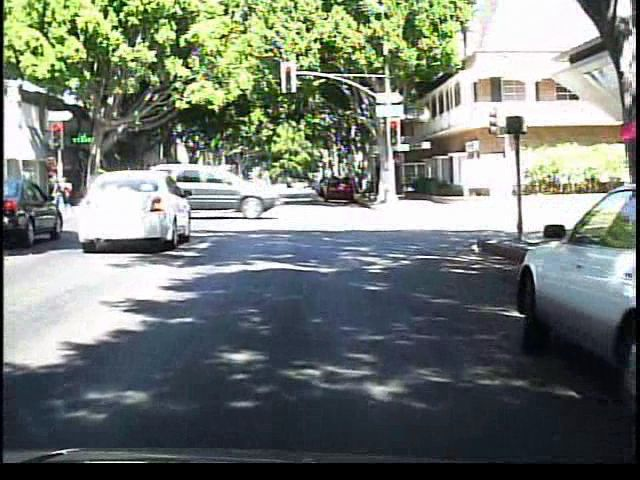person: (54, 164, 79, 211)
